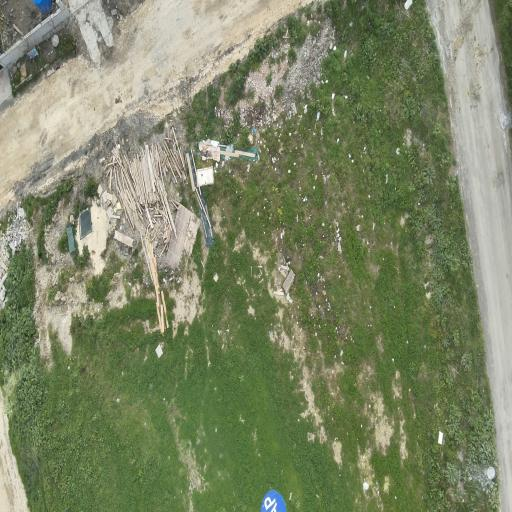UAP: (261, 490, 286, 511)
